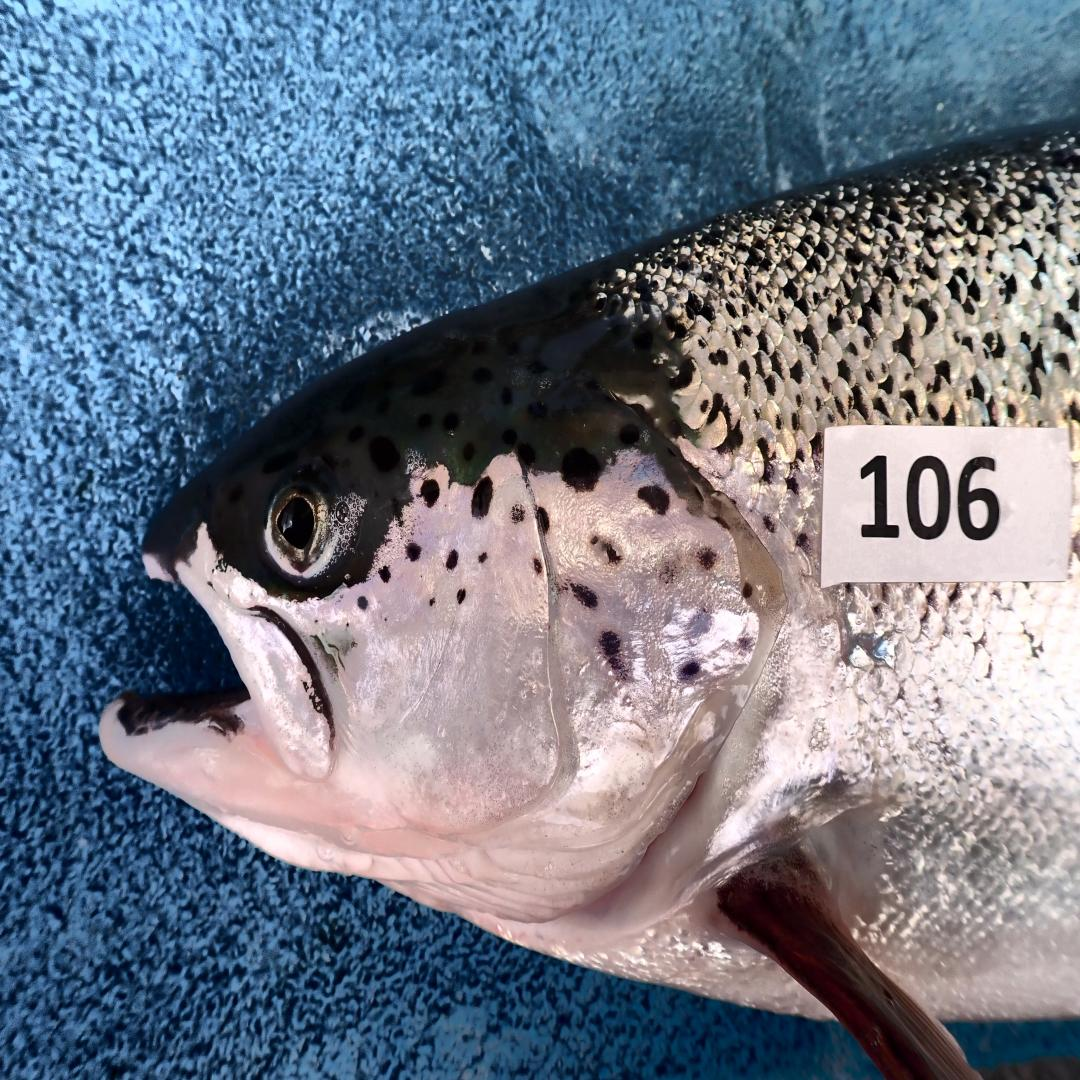spot: (561, 447, 601, 492), (599, 630, 629, 681), (679, 608, 713, 644), (470, 475, 494, 518), (637, 484, 669, 515), (591, 534, 622, 565), (658, 557, 683, 585), (570, 585, 597, 608), (420, 478, 439, 506), (696, 546, 717, 571), (736, 633, 757, 658), (679, 661, 700, 681), (538, 506, 551, 532), (405, 543, 422, 562), (510, 503, 525, 523), (740, 582, 755, 602), (445, 548, 458, 568), (378, 565, 392, 582), (356, 596, 369, 610), (534, 557, 542, 574), (458, 588, 466, 605), (380, 613, 390, 624), (428, 596, 437, 608), (479, 551, 487, 562), (344, 622, 350, 630)
